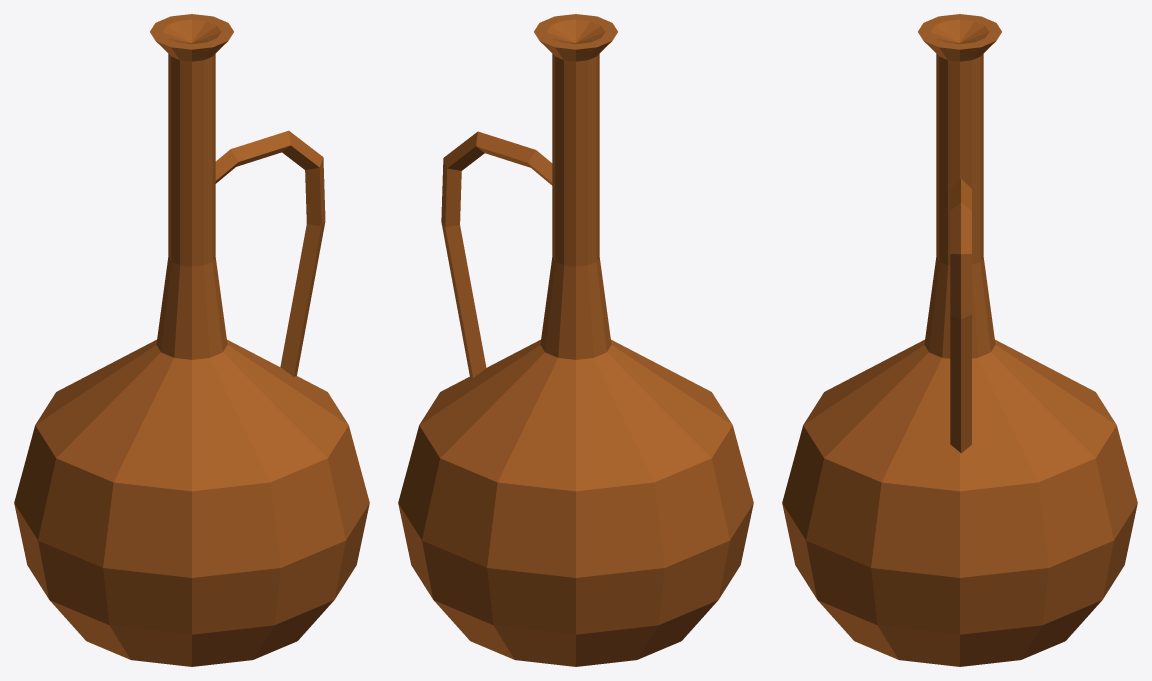
The model's file is SM_pottery_008.FBX.
3 views of the same model, side by side, from view 1: azimuth 30°, elevation 25°; view 2: azimuth 150°, elevation 25°; view 3: azimuth 270°, elevation 25° (orthographic).
Visible parts, largest first — view 1: Object092; view 2: Object092; view 3: Object092.
Part boxes in pixels (x1,y1,x2,y2): Object092: (14,14,369,666); Object092: (398,14,753,666); Object092: (782,14,1137,666).
Size of the model in its own units: 51.61 by 93.41 by 51.61.
